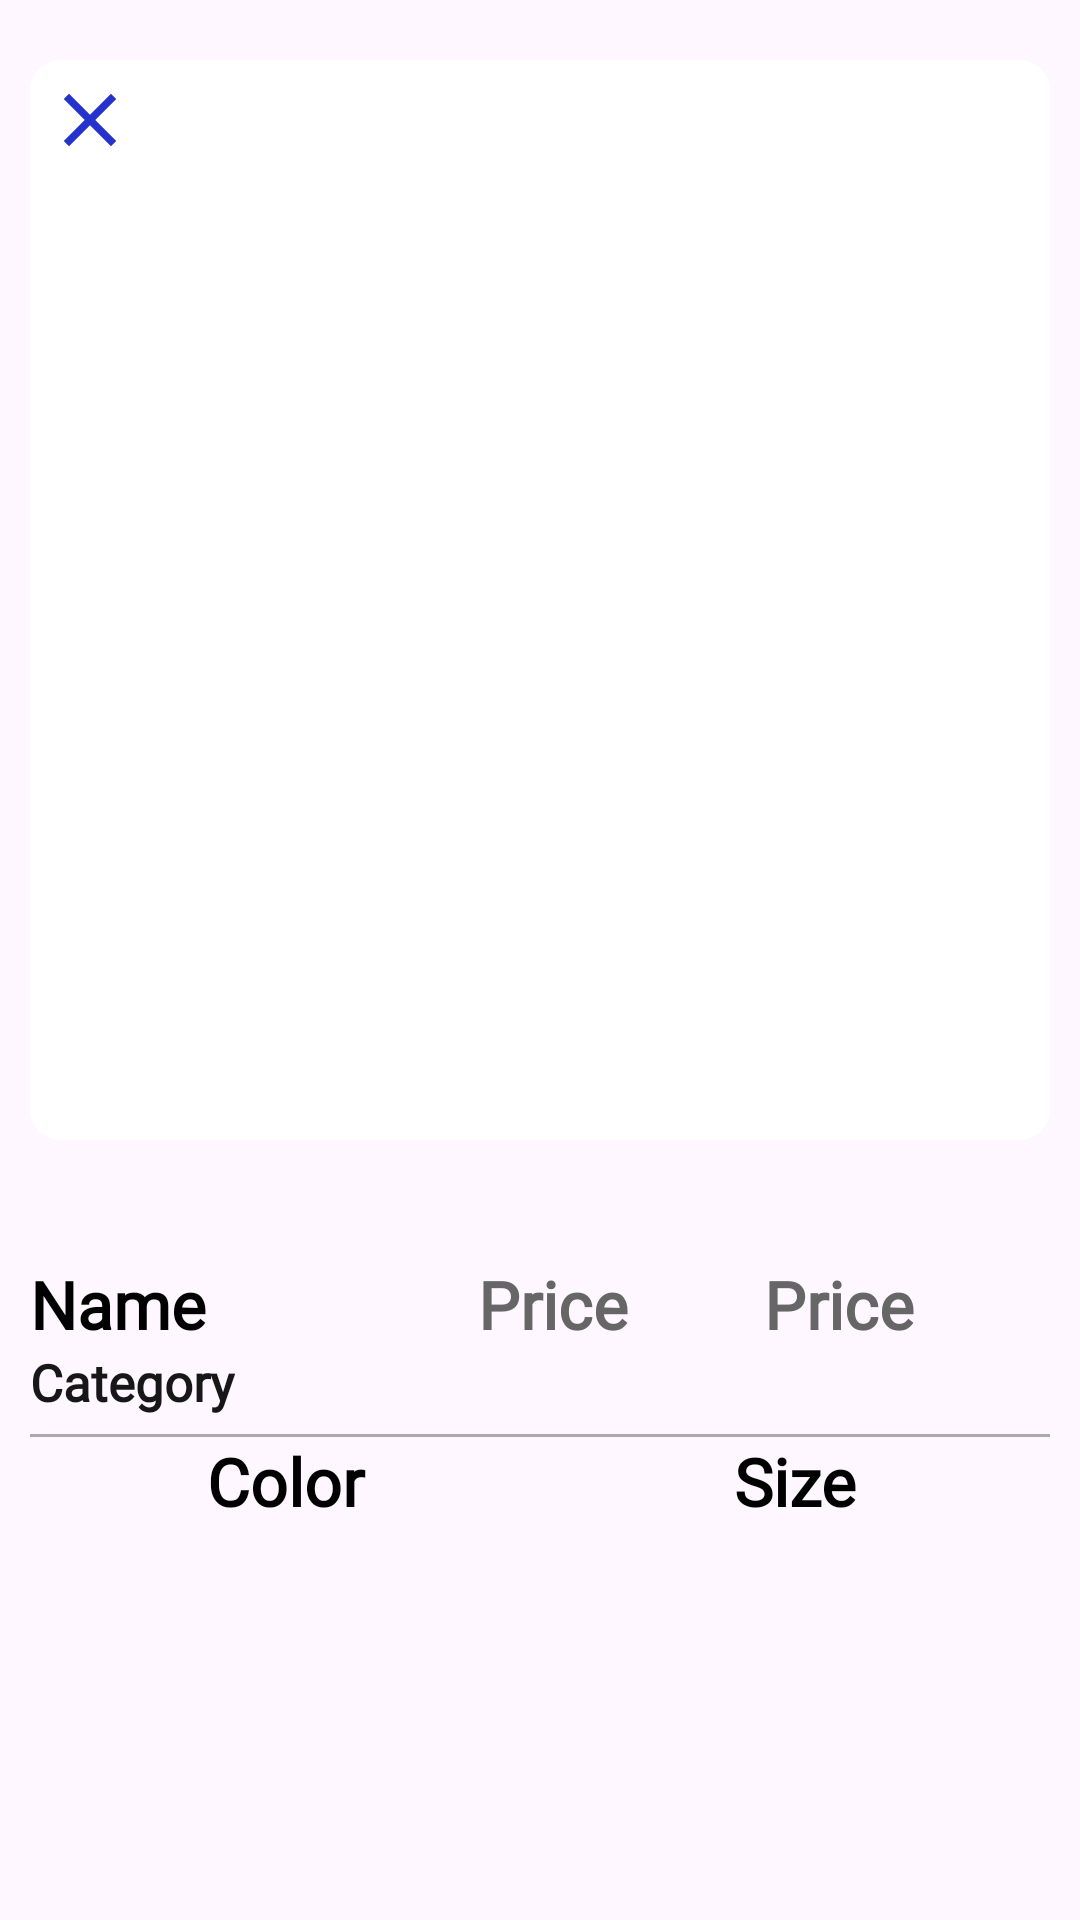

Point at icon controls on the screen. Image size 1080×1920, points as (x,y).
Close: (90,120)
